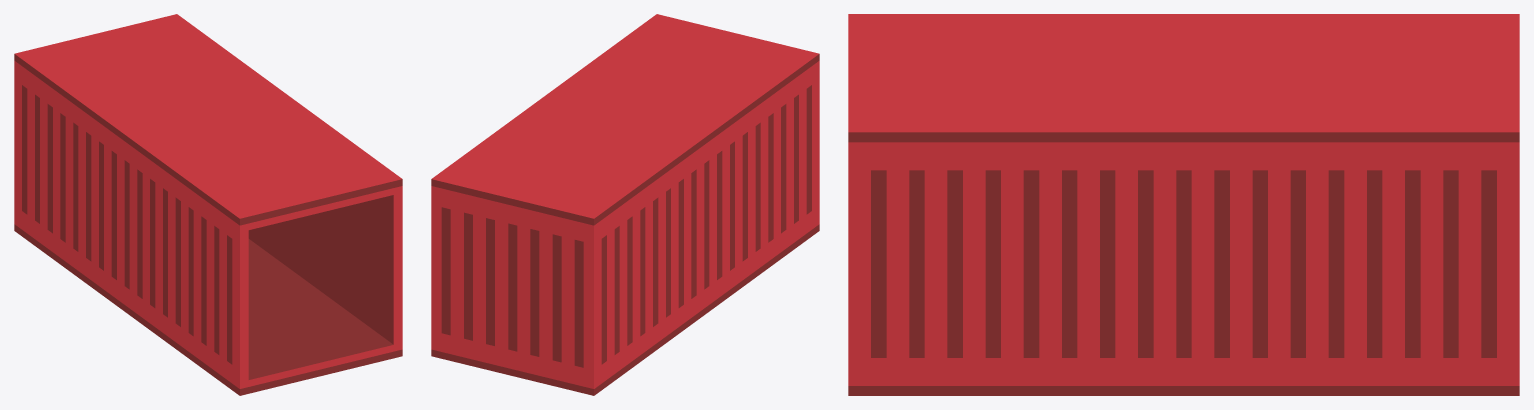
File: cargo-shipping-base_red.glb
The picture shows the model from 3 angles, left to right: view 1: azimuth 30°, elevation 25°; view 2: azimuth 150°, elevation 25°; view 3: azimuth 270°, elevation 25°; orthographic projection. The views are drawn at different scales.
Parts seen in each view (by area): view 1: cargo-shipping-base_red; view 2: cargo-shipping-base_red; view 3: cargo-shipping-base_red.
Boxes of the visible parts, x1,y1,x2,y2 form: cargo-shipping-base_red: (14,14,402,395); cargo-shipping-base_red: (431,14,819,395); cargo-shipping-base_red: (848,14,1519,395).
Bounding box in the file's own units: 2.5 × 2.6 × 6.
Materials: 1 (1 with a texture image).
